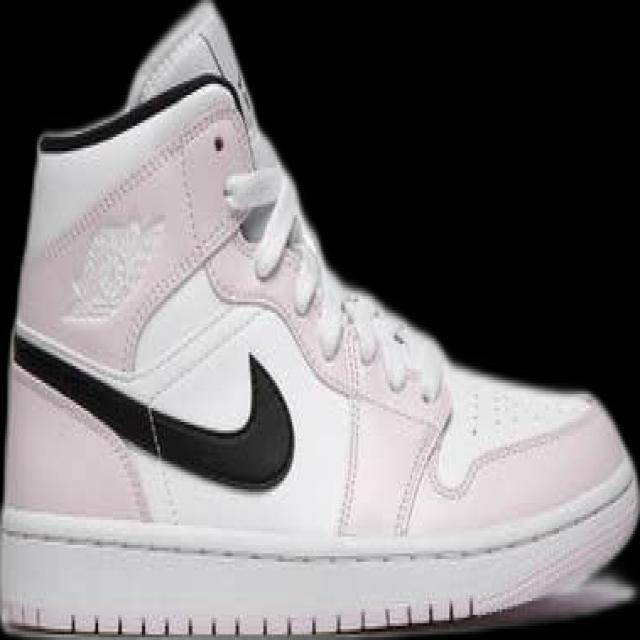J1_ShoeLogo: (1, 1, 637, 636)
J1_StitchPattern: (25, 75, 452, 536), (3, 478, 636, 568), (9, 322, 181, 525), (324, 292, 450, 539), (40, 100, 232, 261), (2, 596, 481, 636), (36, 70, 232, 153), (334, 292, 416, 396), (390, 405, 452, 539), (332, 299, 366, 538), (138, 401, 182, 526)
